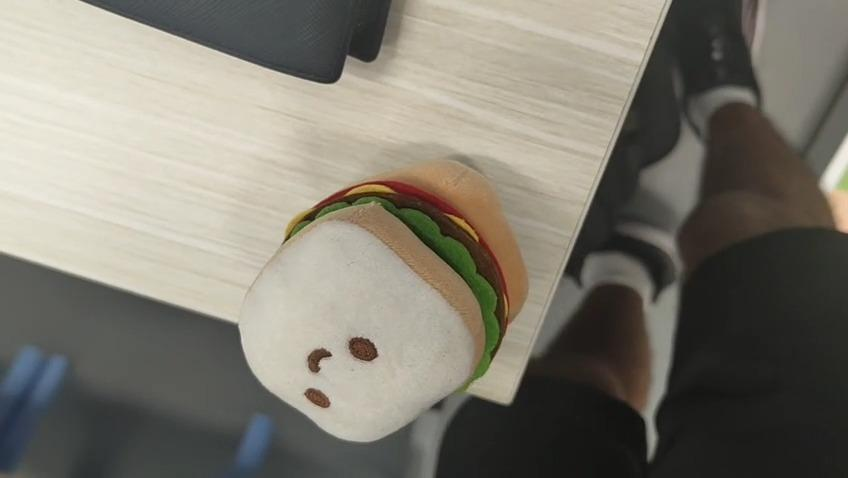objects: (233, 156, 532, 445)
